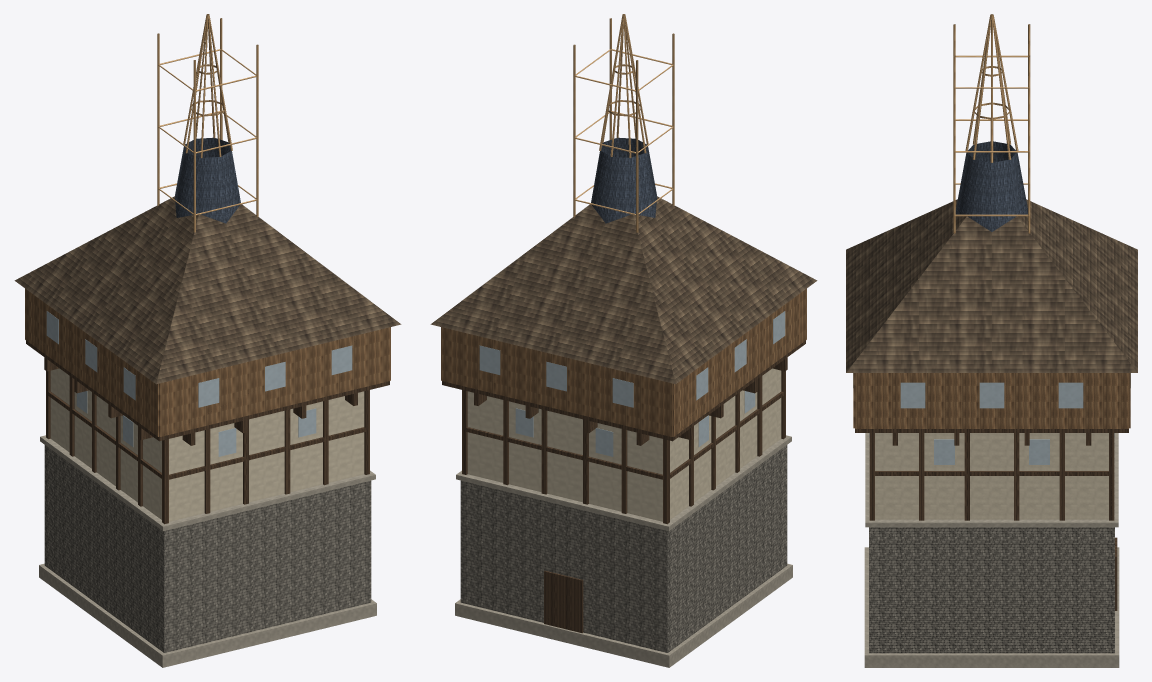
The model's file is Keep_Timber_Spire_Site_1.gltf.
3 views of the same model, side by side, from view 1: azimuth 30°, elevation 25°; view 2: azimuth 150°, elevation 25°; view 3: azimuth 270°, elevation 25° (orthographic). The views are drawn at different scales.
Visible parts, largest first — view 1: Keep_Timber_Spire_Site_1; view 2: Keep_Timber_Spire_Site_1; view 3: Keep_Timber_Spire_Site_1.
Part boxes in pixels (x1,y1,x2,y2): Keep_Timber_Spire_Site_1: [14, 14, 401, 667]; Keep_Timber_Spire_Site_1: [430, 14, 817, 667]; Keep_Timber_Spire_Site_1: [846, 14, 1137, 667].
Bounding box in the file's own units: 16.6 × 37.61 × 16.6.
9 materials, 9 textured.
